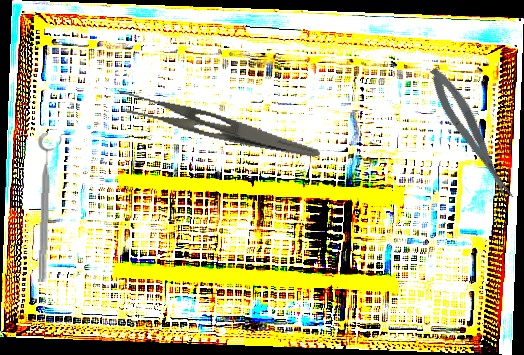Dressing Forceps: (110, 86, 326, 160)
Fixation Ring: (33, 132, 64, 283)
Micro Scissor: (423, 62, 519, 207)
